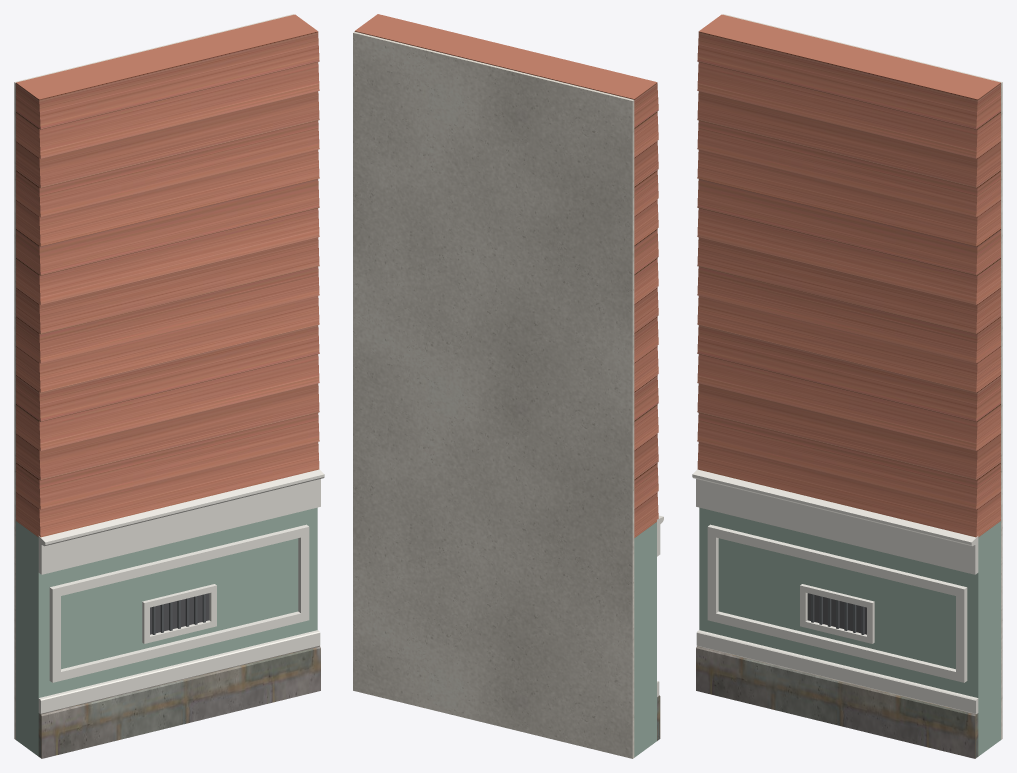
Rendered from f_g_plain_e.glb.
3 renders of one model, left to right at view 1: azimuth 30°, elevation 25°; view 2: azimuth 150°, elevation 25°; view 3: azimuth 330°, elevation 25°, orthographic.
Visible parts, largest first — view 1: f_g_plain_e_siding_e, f_g_plain_e_acc_e, f_g_plain_e_trim, f_g_plain_e_plinth, f_g_plain_e_plaster, f_g_plain_e_dark, f_g_plain_e_iron; view 2: f_g_plain_e_plaster, f_g_plain_e_siding_e, f_g_plain_e_acc_e; view 3: f_g_plain_e_siding_e, f_g_plain_e_acc_e, f_g_plain_e_trim, f_g_plain_e_plinth, f_g_plain_e_plaster, f_g_plain_e_dark, f_g_plain_e_iron.
Boxes of the visible parts, x1,y1,x2,y2 form: f_g_plain_e_siding_e: [16, 14, 319, 537]; f_g_plain_e_acc_e: [16, 507, 317, 756]; f_g_plain_e_trim: [38, 469, 324, 713]; f_g_plain_e_plinth: [38, 646, 320, 758]; f_g_plain_e_plaster: [14, 14, 293, 739]; f_g_plain_e_dark: [150, 593, 209, 634]; f_g_plain_e_iron: [152, 594, 205, 634]; f_g_plain_e_plaster: [353, 31, 634, 758]; f_g_plain_e_siding_e: [354, 14, 658, 537]; f_g_plain_e_acc_e: [634, 522, 656, 757]; f_g_plain_e_siding_e: [697, 14, 1000, 537]; f_g_plain_e_acc_e: [699, 507, 1000, 756]; f_g_plain_e_trim: [692, 469, 978, 713]; f_g_plain_e_plinth: [696, 646, 978, 758]; f_g_plain_e_plaster: [723, 14, 1002, 739]; f_g_plain_e_dark: [807, 593, 866, 634]; f_g_plain_e_iron: [811, 594, 864, 634].
Bounding box in the file's own units: 2 × 4.5 × 0.385.
7 materials, 3 textured.
